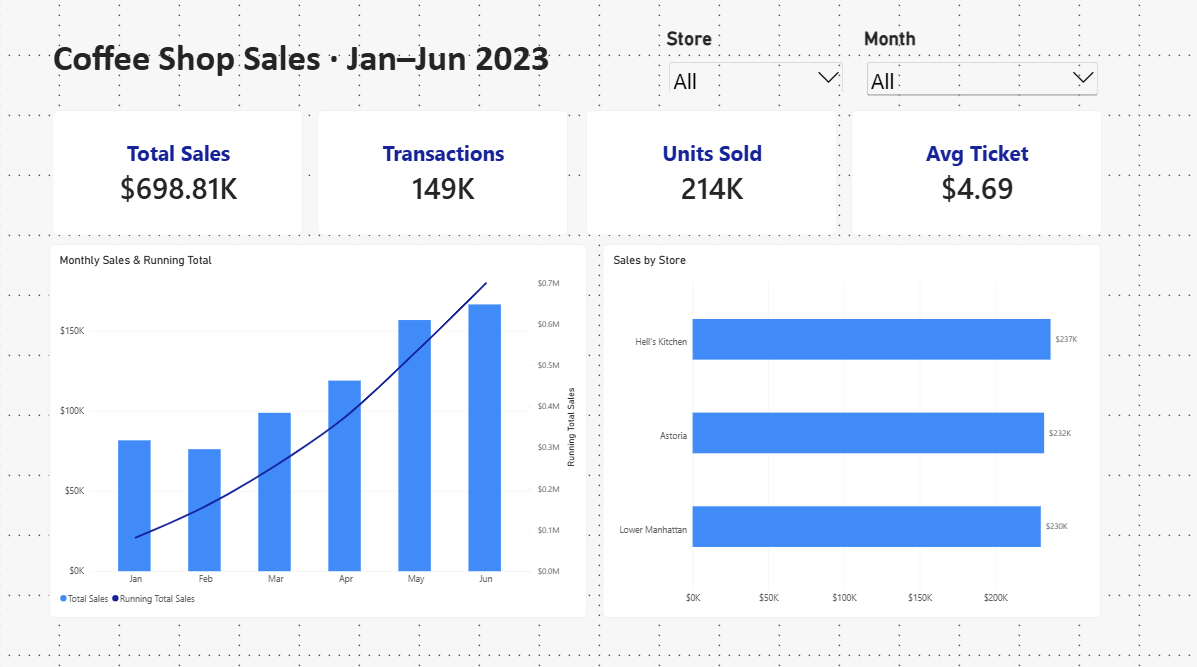

What the dashboard file says about the page in this screenshot:
{"tool":"powerbi","page":{"name":"Overview","canvas":[1920,1080],"ordinal":0},"visuals":[{"type":"cardVisual","fields":{"Data":["_Measure.Total Sales"]},"box":[85.2,185.2,400,200],"z":0},{"type":"cardVisual","fields":{"Data":["_Measure.Transactions"]},"box":[510,185.2,400,200],"z":1000},{"type":"cardVisual","fields":{"Data":["_Measure.Units Sold"]},"box":[940,185.2,400,200],"z":2000},{"type":"cardVisual","fields":{"Data":["_Measure.Avg Ticket"]},"box":[1364,185.2,400,200],"z":3000},{"type":"textbox","box":[80,320,300,200],"z":4000},{"type":"textbox","box":[86,66,860,80],"z":5000},{"type":"lineClusteredColumnComboChart","title":"Monthly Sales & Running Total","fields":{"Category":["dim_date.month_short"],"Y":["_Measure.Total Sales"],"Y2":["_Measure.Running Total Sales"]},"box":[80,400,860,598.3],"z":6000},{"type":"clusteredBarChart","title":"Sales by Store","fields":{"Category":["dim_store.store_location"],"Y":["_Measure.Total Sales"]},"box":[965,400,796.7,598.3],"z":7000},{"type":"slicer","title":"Store","fields":{"Values":["dim_store.store_location"]},"box":[1068,54,286.7,103.3],"z":8000},{"type":"slicer","title":"Month","fields":{"Values":["dim_date.month_name"]},"box":[1384,54,378.3,131.7],"z":9000}]}

Visuals, with their boxes in screenshot pixels (x1, y1, x2, y2), scaled from the page's 1920x1080 canvas onto the 1197x667 screenshot:
cardVisual - _Measure.Total Sales: <bbox>53, 114, 302, 238</bbox>
cardVisual - _Measure.Transactions: <bbox>318, 114, 567, 238</bbox>
cardVisual - _Measure.Units Sold: <bbox>586, 114, 835, 238</bbox>
cardVisual - _Measure.Avg Ticket: <bbox>850, 114, 1100, 238</bbox>
textbox: <bbox>50, 198, 237, 321</bbox>
textbox: <bbox>54, 41, 590, 90</bbox>
"Monthly Sales & Running Total" lineClusteredColumnComboChart: <bbox>50, 247, 586, 617</bbox>
"Sales by Store" clusteredBarChart: <bbox>602, 247, 1098, 617</bbox>
"Store" slicer: <bbox>666, 33, 845, 97</bbox>
"Month" slicer: <bbox>863, 33, 1099, 115</bbox>
